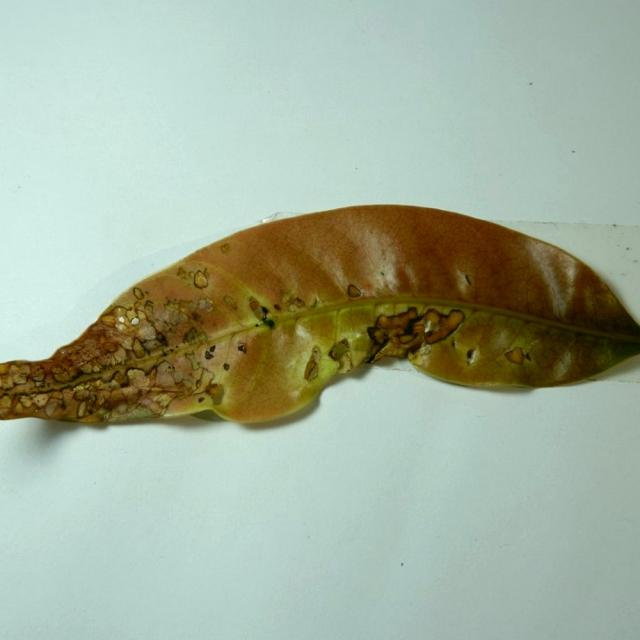Anthracnose: (54, 326, 132, 377), (139, 298, 203, 350), (363, 308, 421, 364), (113, 355, 185, 399), (0, 384, 73, 420), (101, 301, 153, 339), (1, 362, 45, 396), (103, 397, 163, 421), (70, 386, 104, 416), (329, 337, 354, 373), (177, 266, 209, 290), (280, 289, 311, 313), (304, 345, 321, 381), (51, 364, 71, 381), (12, 364, 31, 380), (197, 297, 215, 312)
Mango: (0, 206, 639, 433)
